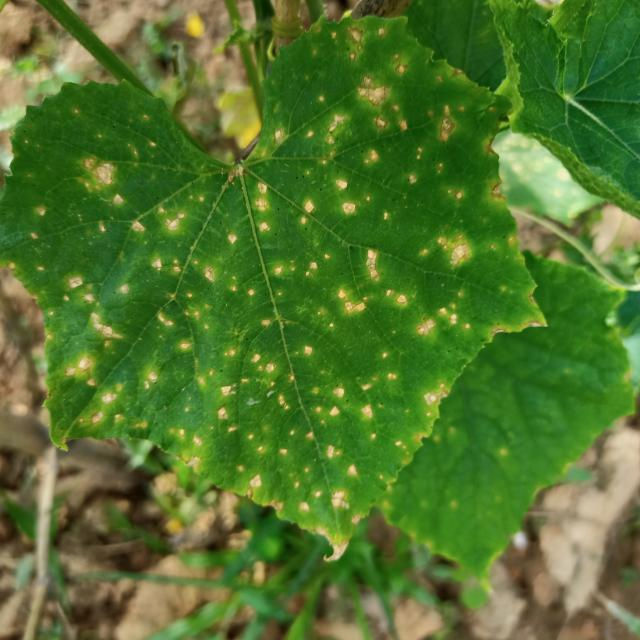disease_cucumber: (165, 232, 481, 520), (46, 144, 334, 429), (256, 29, 501, 280)
